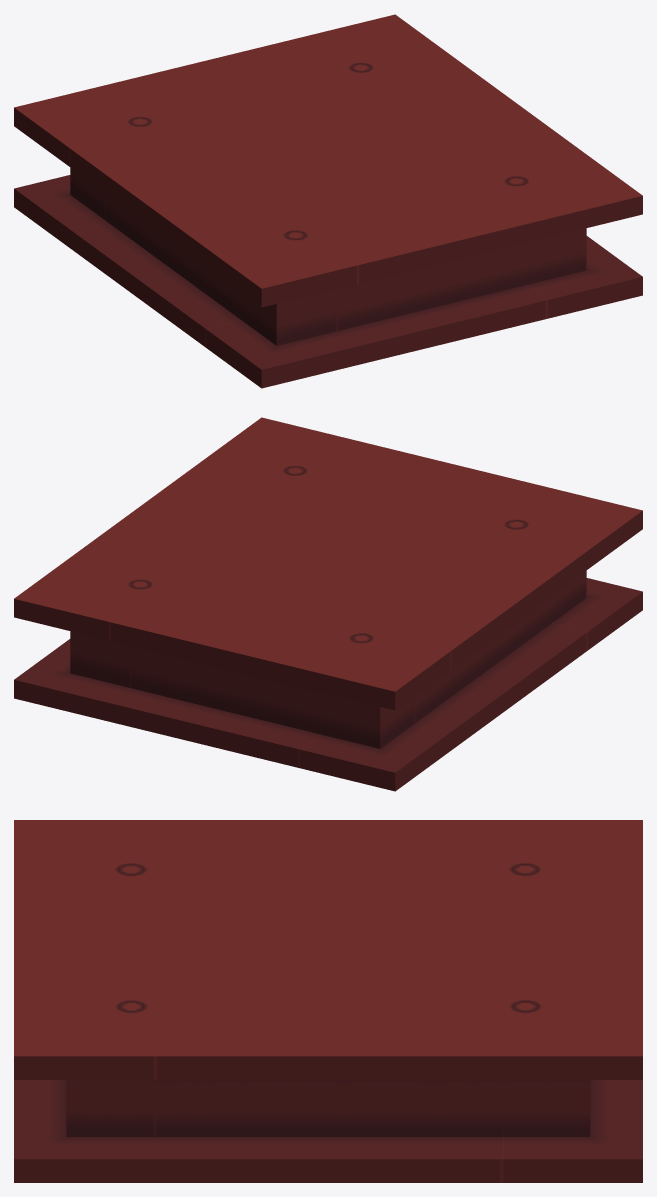
File: Moving Platform.fbx
3 views of the same model, one above another, from view 1: azimuth 30°, elevation 25°; view 2: azimuth 150°, elevation 25°; view 3: azimuth 270°, elevation 25° (orthographic). The views are drawn at different scales.
Visible parts, largest first — view 1: iplatedge (2), iplatedge, iplatmiddle, iplatcorner, iplatcorner (2), iplatedge (1), iplatcorner (1), iplatedge (3), iplatcorner (3); view 2: iplatedge (3), iplatedge, iplatmiddle, iplatcorner (1), iplatcorner (3), iplatedge (1), iplatcorner, iplatedge (2), iplatcorner (2); view 3: iplatedge (1), iplatmiddle, iplatcorner (2), iplatcorner (3), iplatedge, iplatedge (2), iplatedge (3), iplatcorner, iplatcorner (1).
Part boxes in pixels (<box>): iplatedge (2): <box>302,178,547,365</box>; iplatedge: <box>69,124,301,347</box>; iplatmiddle: <box>164,78,491,224</box>; iplatcorner: <box>206,225,356,388</box>; iplatcorner (2): <box>493,155,642,318</box>; iplatedge (1): <box>355,55,587,236</box>; iplatcorner (1): <box>14,84,163,246</box>; iplatedge (3): <box>109,37,354,124</box>; iplatcorner (3): <box>300,14,449,77</box>; iplatedge (3): <box>109,581,354,768</box>; iplatedge: <box>355,527,587,750</box>; iplatmiddle: <box>165,481,492,627</box>; iplatcorner (1): <box>300,628,450,791</box>; iplatcorner (3): <box>14,558,163,721</box>; iplatedge (1): <box>69,458,301,639</box>; iplatcorner: <box>493,487,642,649</box>; iplatedge (2): <box>302,440,547,527</box>; iplatcorner (2): <box>207,417,356,480</box>; iplatedge (1): <box>153,997,503,1182</box>; iplatmiddle: <box>153,879,503,997</box>; iplatcorner (2): <box>14,997,153,1182</box>; iplatcorner (3): <box>503,997,642,1182</box>; iplatedge: <box>153,820,503,878</box>; iplatedge (2): <box>14,879,153,1099</box>; iplatedge (3): <box>503,879,642,1099</box>; iplatcorner: <box>14,820,153,878</box>; iplatcorner (1): <box>503,820,642,878</box>.
Size of the model in its own units: 8 by 2 by 9.
1 material, 1 textured.
